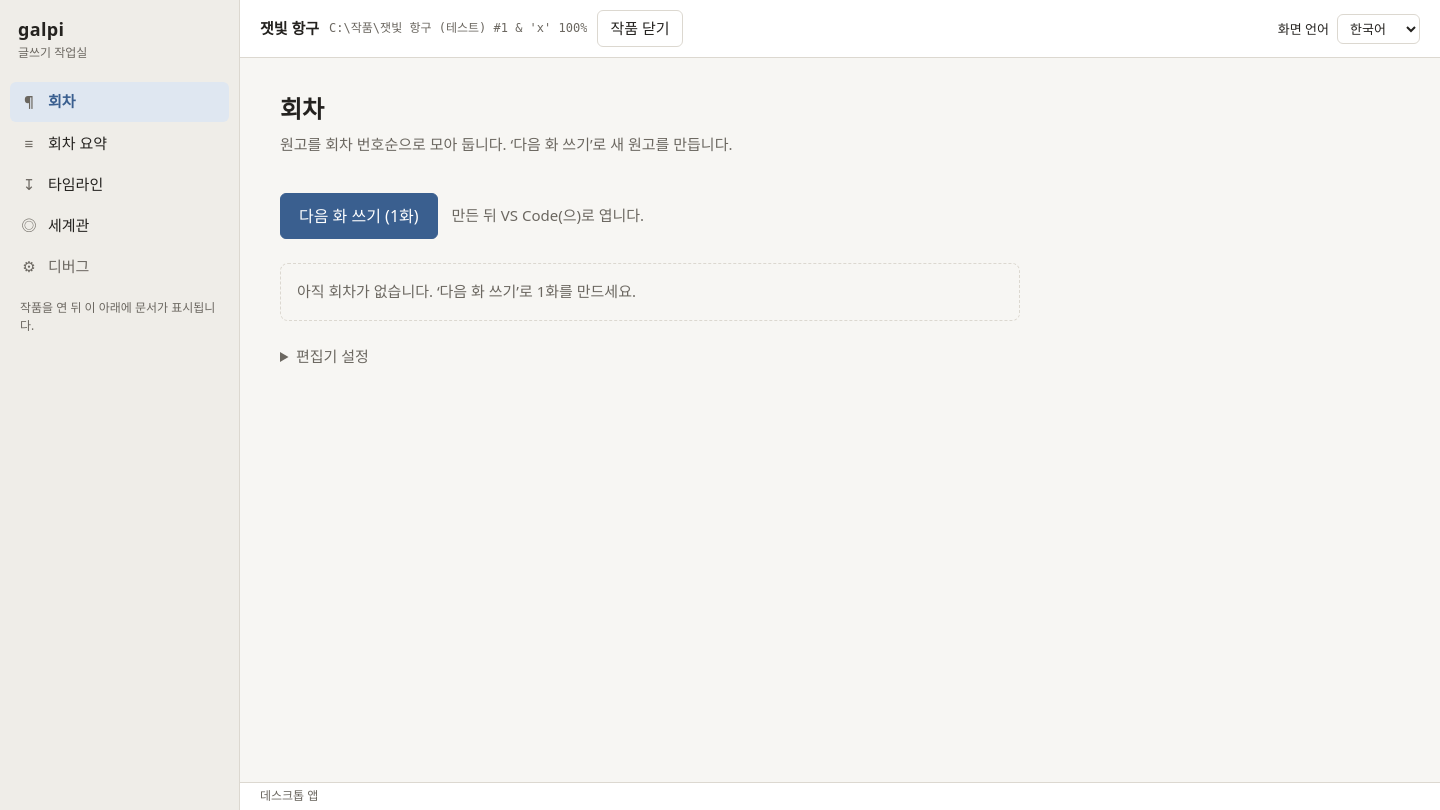
Test case: episodes › ‘다음 화 쓰기’ creates episode 1, selects it, opens VS Code and shows the path
Expected: the text "잿빛 항구" is shown, [260,17,319,40]
Click the button "다음 화 쓰기 (1화)": {"x": 359, "y": 216} [280,193,438,240]
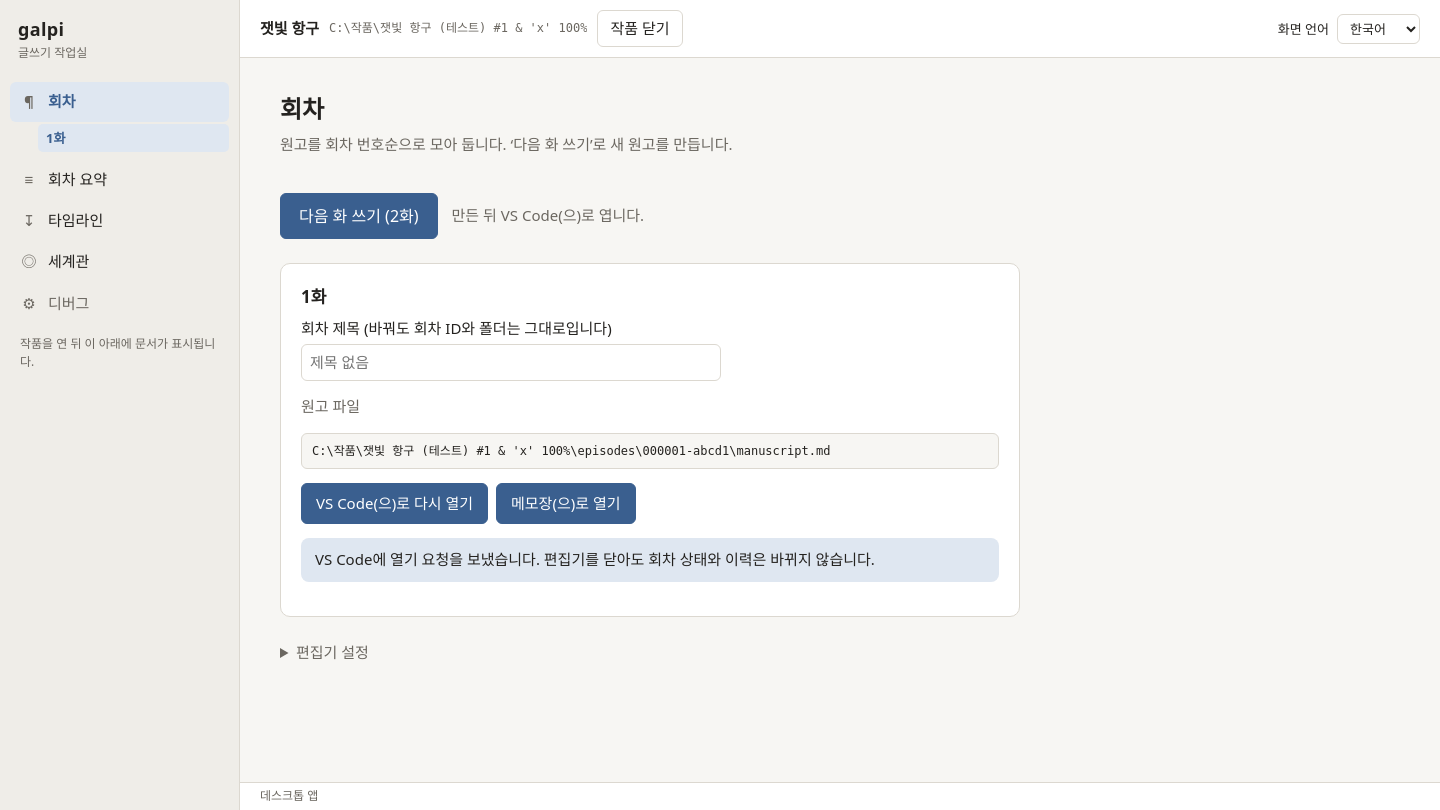
Expected: the text "VS Code에 열기 요청을 보냈습니다. 편집기를 닫아도 회차 상태와 이력은 바뀌지 않습니다." is shown, [301,538,999,582]
Expected: the text with test id "manuscript-path" shows "000001-abcd1\\manuscript.md", [312,444,830,458]
Expected: the button "다음 화 쓰기 (2화)" is shown, [280,193,438,240]
